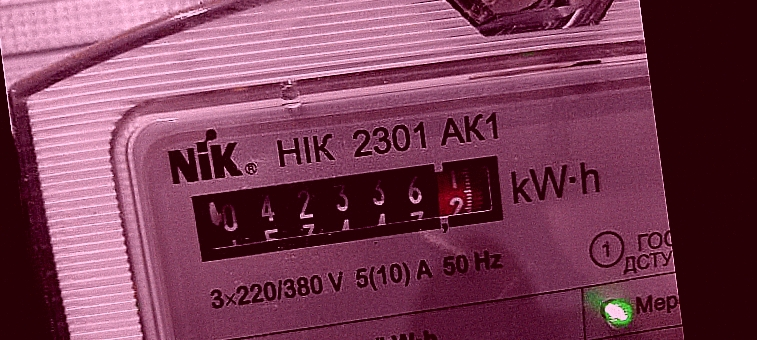0: (217, 199, 240, 234)
1: (444, 164, 459, 191)
2: (291, 185, 317, 221), (445, 194, 465, 217)
3: (328, 179, 350, 214), (367, 174, 388, 208)
4: (256, 190, 277, 224)
6: (402, 171, 426, 208)
screen: (176, 140, 520, 274)
